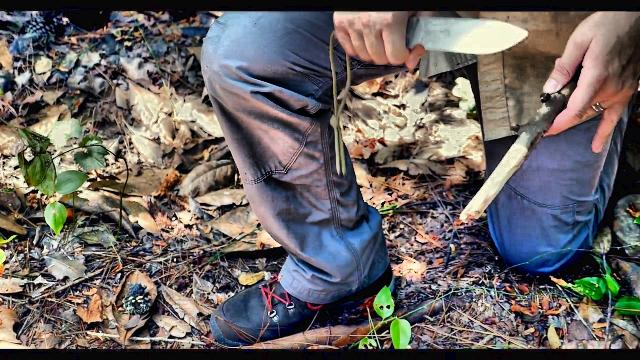knife: (330, 12, 530, 70)
